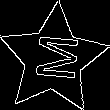M_W: (27, 34, 80, 84)
